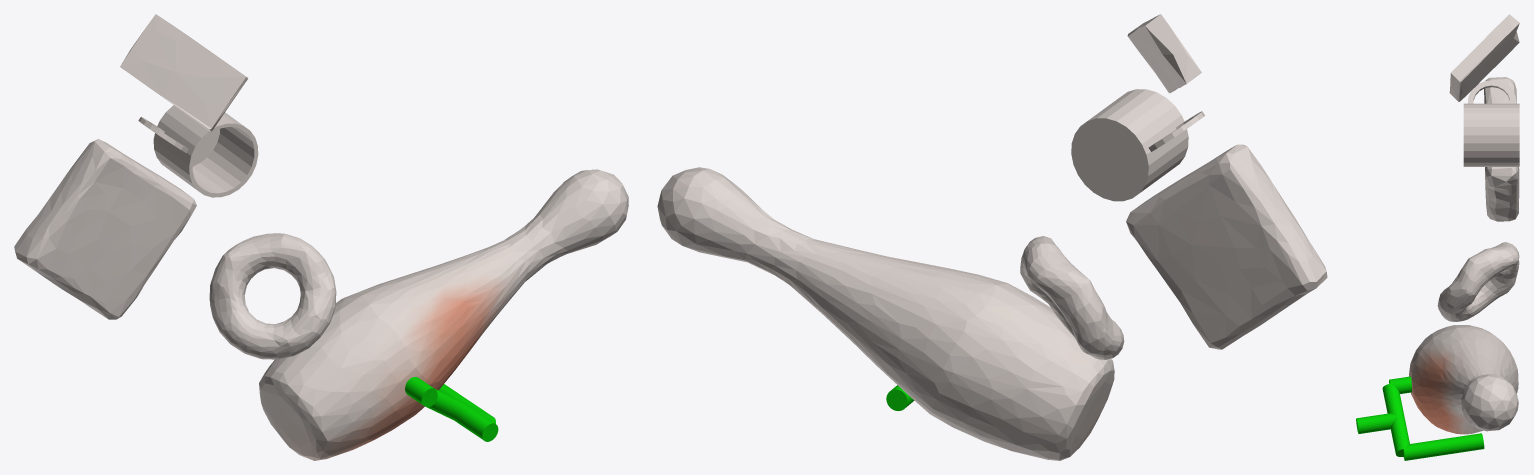
Rendered from round_000_trial_000.obj.
3 views of the same model, side by side, from view 1: azimuth 30°, elevation 25°; view 2: azimuth 150°, elevation 25°; view 3: azimuth 270°, elevation 25° (orthographic). The views are drawn at different scales.
Parts seen in each view (by area): view 1: geometry_0, geometry_1; view 2: geometry_0; view 3: geometry_0, geometry_1.
Boxes of the visible parts, x1,y1,x2,y2 form: geometry_0: (14, 14, 628, 460); geometry_1: (405, 377, 498, 441); geometry_0: (657, 14, 1327, 460); geometry_0: (1409, 14, 1519, 434); geometry_1: (1356, 376, 1484, 460).
Size of the model in its own units: 0.3376 by 0.242 by 0.1018.
